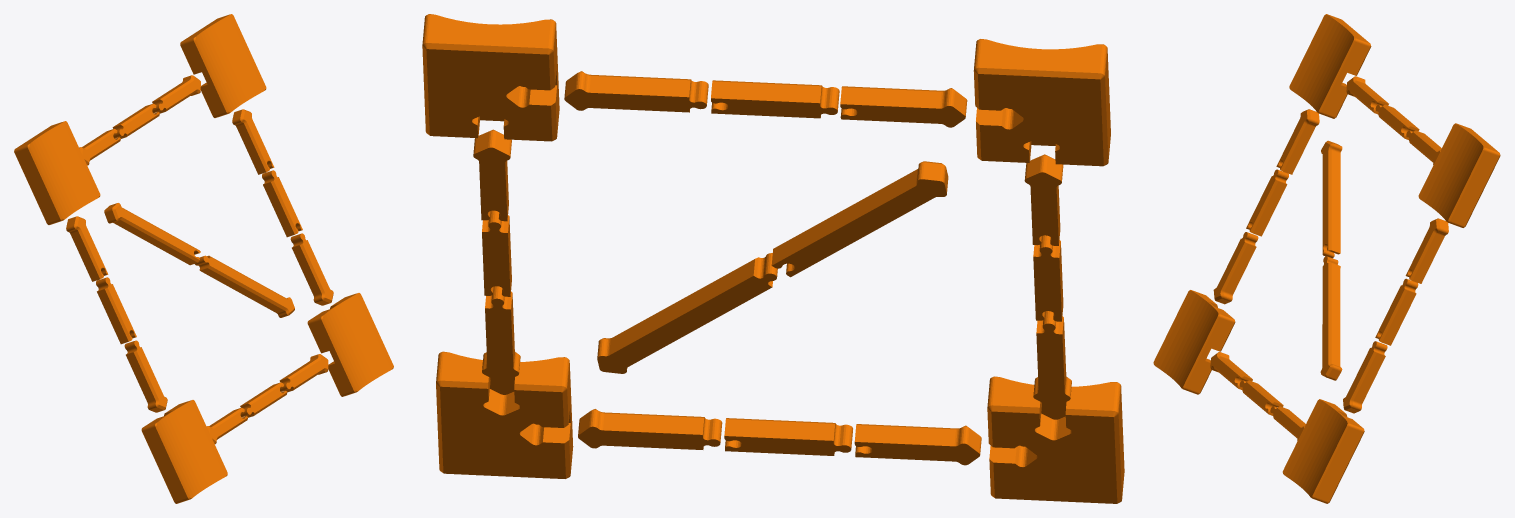
File: AdjustableDumbbellStand.glb
3 views of the same model, side by side, from view 1: azimuth 30°, elevation 25°; view 2: azimuth 150°, elevation 25°; view 3: azimuth 270°, elevation 25° (orthographic). The views are drawn at different scales.
Parts seen in each view (by area): view 1: Demo; view 2: Demo; view 3: Demo.
Part boxes in pixels (<box>): Demo: <box>14,14,393,503</box>; Demo: <box>422,14,1124,503</box>; Demo: <box>1153,14,1500,503</box>.
Size of the model in its own units: 904 by 763 by 735.
